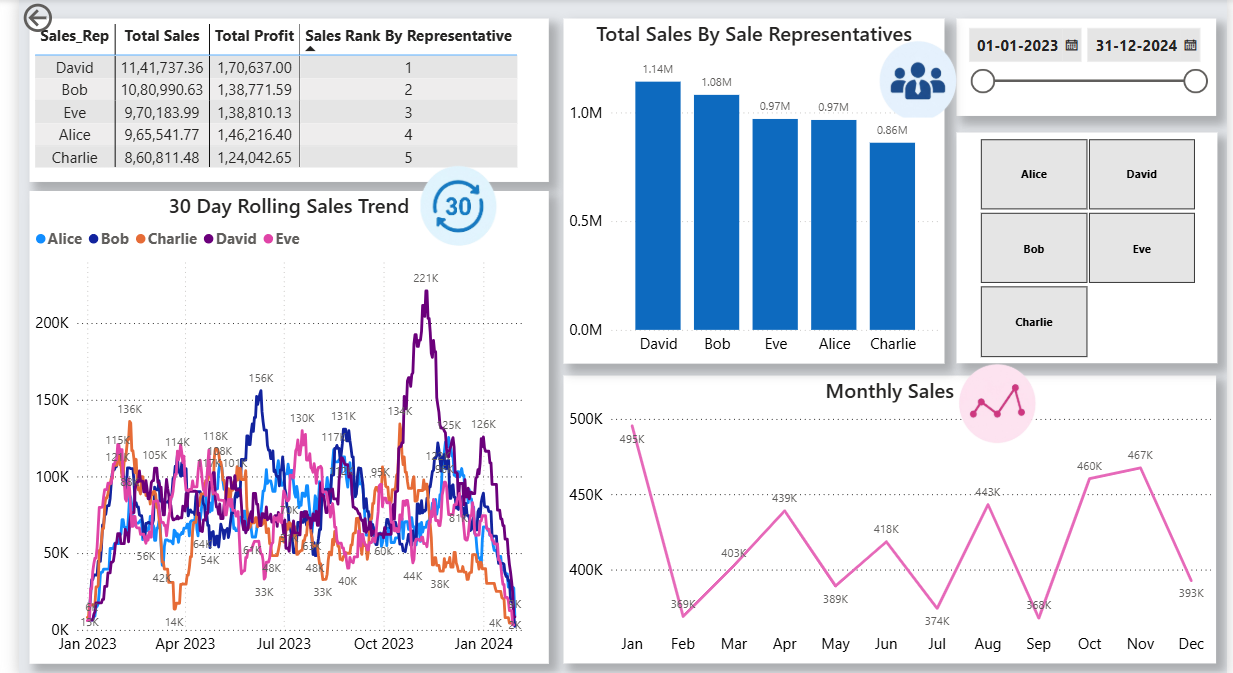

The page's visual inventory and layout, read from the dashboard file:
{"tool":"powerbi","page":{"name":"Sale Representative's Performace & Rankings","canvas":[1280,720],"ordinal":4},"visuals":[{"type":"tableEx","fields":{"Values":["Dim_Sales Rep.Sales_Rep","Measure.Total Sales","Measure.Total Profit","Measure.Sales Rank By Representative"]},"box":[11.1,20.7,550.4,173.4],"z":0},{"type":"actionButton","box":[0,0,100,40],"z":1000},{"type":"lineChart","title":"30 Day Rolling Sales Trend","fields":{"Category":["Dim_Date.Date"],"Series":["Dim_Sales Rep.Sales_Rep"],"Y":["Dim_Cat.Rolling 30 Days Sales"]},"box":[11.1,203.6,550.4,501],"z":2000},{"type":"lineChart","title":"Monthly Sales","fields":{"Category":["Dim_Date.Month Short"],"Y":["Measure.Total Sales"]},"box":[577.4,399.2,691.9,305.4],"z":3000},{"type":"slicer","fields":{"Values":["Dim_Date.Date"]},"box":[994.1,20.7,275.2,103.4],"z":4000},{"type":"columnChart","title":"Total Sales By Sale Representatives","fields":{"Category":["Dim_Sales Rep.Sales_Rep"],"Y":["Measure.Total Sales"]},"box":[577.4,20.7,404,365.8],"z":5000},{"type":"slicer","fields":{"Values":["Dim_Sales Rep.Sales_Rep"]},"box":[994.1,141.6,276.8,245],"z":6000},{"type":"image","box":[903.5,39.8,101.8,85.9],"z":7000},{"type":"image","box":[954.4,386.5,168.6,85.9],"z":8000},{"type":"image","box":[402.4,176.6,133.6,87.5],"z":9000}]}

Visuals, with their boxes on the page's 1280x720 design canvas (x1, y1, x2, y2). These are canvas units, not pixel positions in the 1233x673 screenshot, which may show the page scaled, cropped or inside an application window:
tableEx - Dim_Sales Rep.Sales_Rep x Measure.Total Sales: 11 21 562 194
actionButton: 0 0 100 40
"30 Day Rolling Sales Trend" lineChart: 11 204 562 705
"Monthly Sales" lineChart: 577 399 1269 705
slicer - Dim_Date.Date: 994 21 1269 124
"Total Sales By Sale Representatives" columnChart: 577 21 981 386
slicer - Dim_Sales Rep.Sales_Rep: 994 142 1271 387
image: 904 40 1005 126
image: 954 386 1123 472
image: 402 177 536 264
